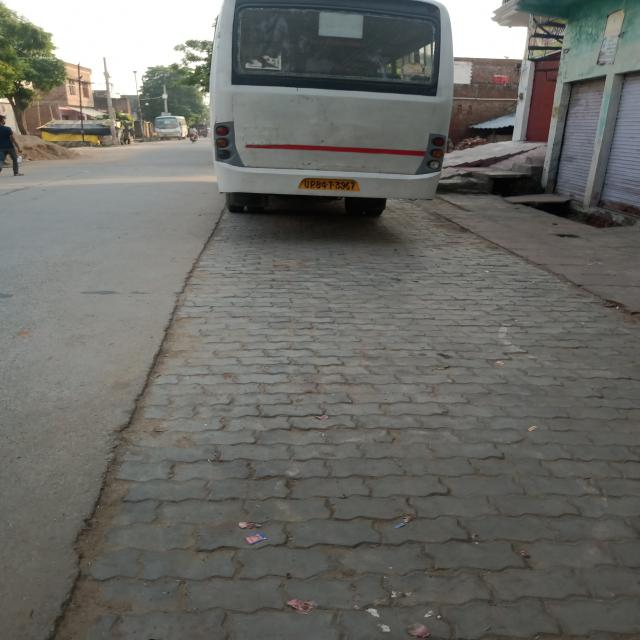Bus: (205, 0, 451, 244)
